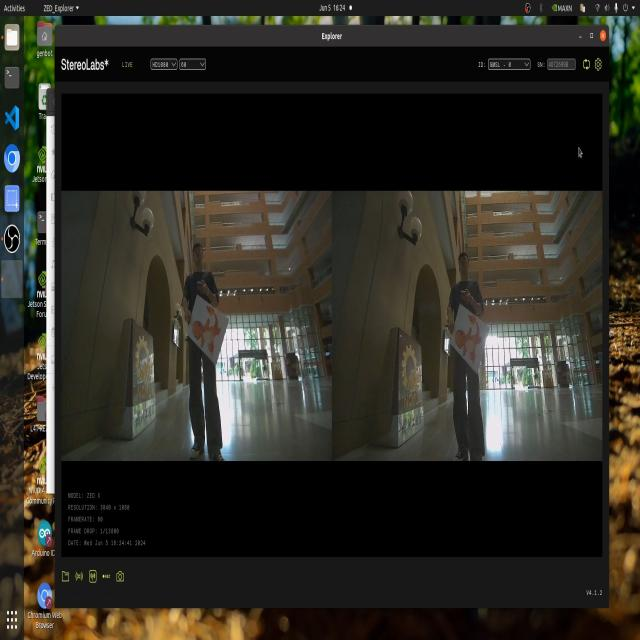red: (194, 295, 229, 363), (452, 315, 478, 372)
